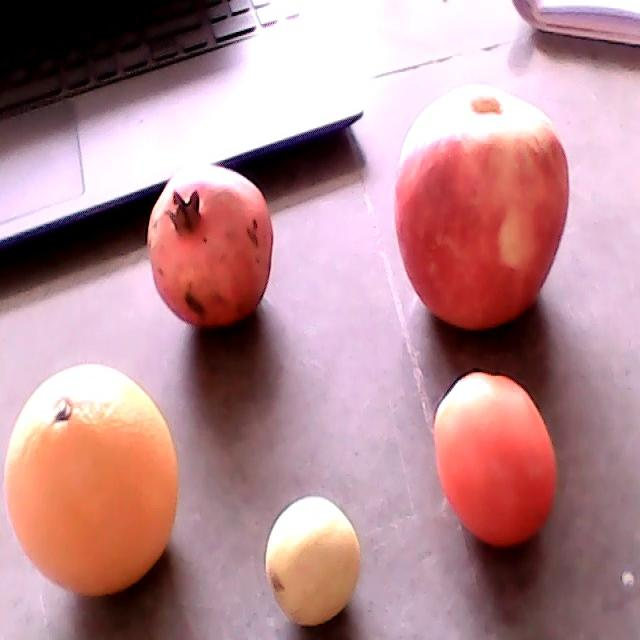apple: (394, 80, 567, 328)
lemon: (264, 497, 362, 626)
orange: (6, 361, 178, 595)
pomegranate: (149, 161, 274, 327)
tomato: (435, 373, 557, 545)
